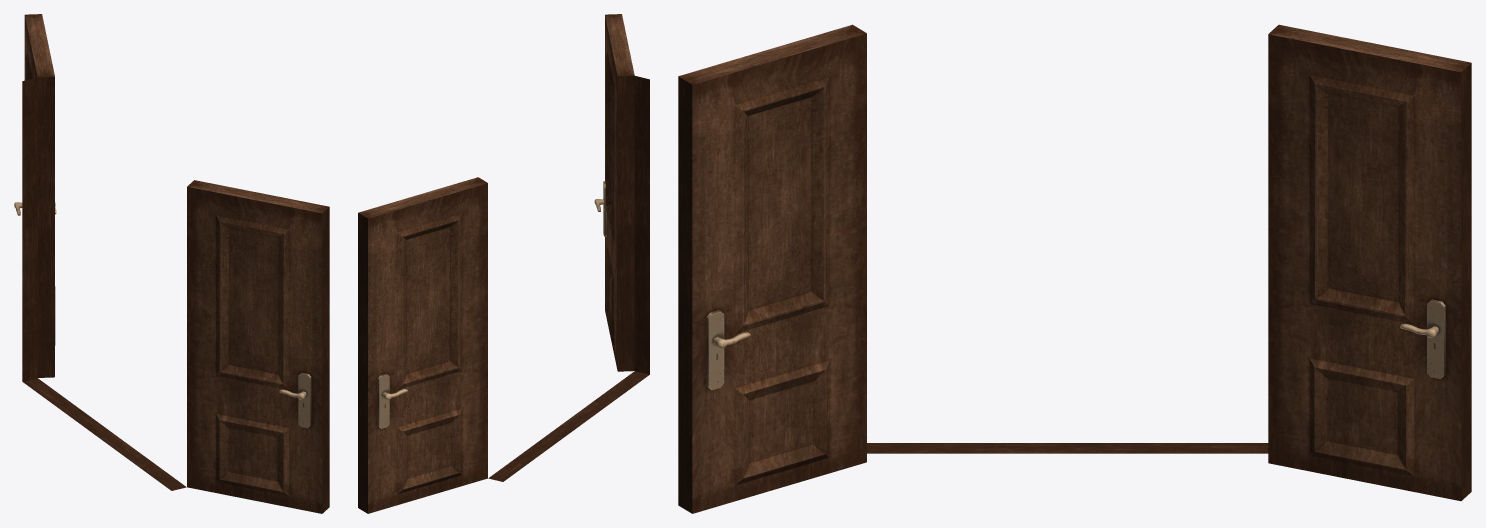
Rendered from door.glb.
3 renders of one model, left to right at view 1: azimuth 30°, elevation 25°; view 2: azimuth 150°, elevation 25°; view 3: azimuth 270°, elevation 25°, orthographic. The views are drawn at different scales.
Visible parts, largest first — view 1: prop_casa_puerta_troncos_ventanas_puertas-madera_0, marco_puertaDoble_troncos_ventanas_puertas-madera_0, prop_casa_puerta001_troncos_ventanas_puertas-madera_0, prop_casa_puerta_troncos_ventanas_puertas-metal_0; view 2: prop_casa_puerta001_troncos_ventanas_puertas-madera_0, prop_casa_puerta_troncos_ventanas_puertas-madera_0, marco_puertaDoble_troncos_ventanas_puertas-madera_0, prop_casa_puerta001_troncos_ventanas_puertas-metal_0; view 3: prop_casa_puerta001_troncos_ventanas_puertas-madera_0, prop_casa_puerta_troncos_ventanas_puertas-madera_0, marco_puertaDoble_troncos_ventanas_puertas-madera_0, prop_casa_puerta001_troncos_ventanas_puertas-metal_0, prop_casa_puerta_troncos_ventanas_puertas-metal_0.
Boxes of the visible parts, left/top/right/bottom form: prop_casa_puerta_troncos_ventanas_puertas-madera_0: left=187, top=180, right=329, bottom=513; marco_puertaDoble_troncos_ventanas_puertas-madera_0: left=22, top=77, right=186, bottom=490; prop_casa_puerta001_troncos_ventanas_puertas-madera_0: left=24, top=14, right=55, bottom=377; prop_casa_puerta_troncos_ventanas_puertas-metal_0: left=279, top=372, right=311, bottom=428; prop_casa_puerta001_troncos_ventanas_puertas-madera_0: left=358, top=177, right=487, bottom=513; prop_casa_puerta_troncos_ventanas_puertas-madera_0: left=605, top=14, right=634, bottom=371; marco_puertaDoble_troncos_ventanas_puertas-madera_0: left=488, top=76, right=649, bottom=481; prop_casa_puerta001_troncos_ventanas_puertas-metal_0: left=377, top=374, right=407, bottom=428; prop_casa_puerta001_troncos_ventanas_puertas-madera_0: left=1268, top=24, right=1471, bottom=501; prop_casa_puerta_troncos_ventanas_puertas-madera_0: left=678, top=24, right=866, bottom=513; marco_puertaDoble_troncos_ventanas_puertas-madera_0: left=867, top=443, right=1268, bottom=453; prop_casa_puerta001_troncos_ventanas_puertas-metal_0: left=1400, top=299, right=1445, bottom=378; prop_casa_puerta_troncos_ventanas_puertas-metal_0: left=706, top=310, right=750, bottom=390.
Bounding box in the file's own units: 1.06 × 3 × 5.03.
2 materials, 2 textured.
